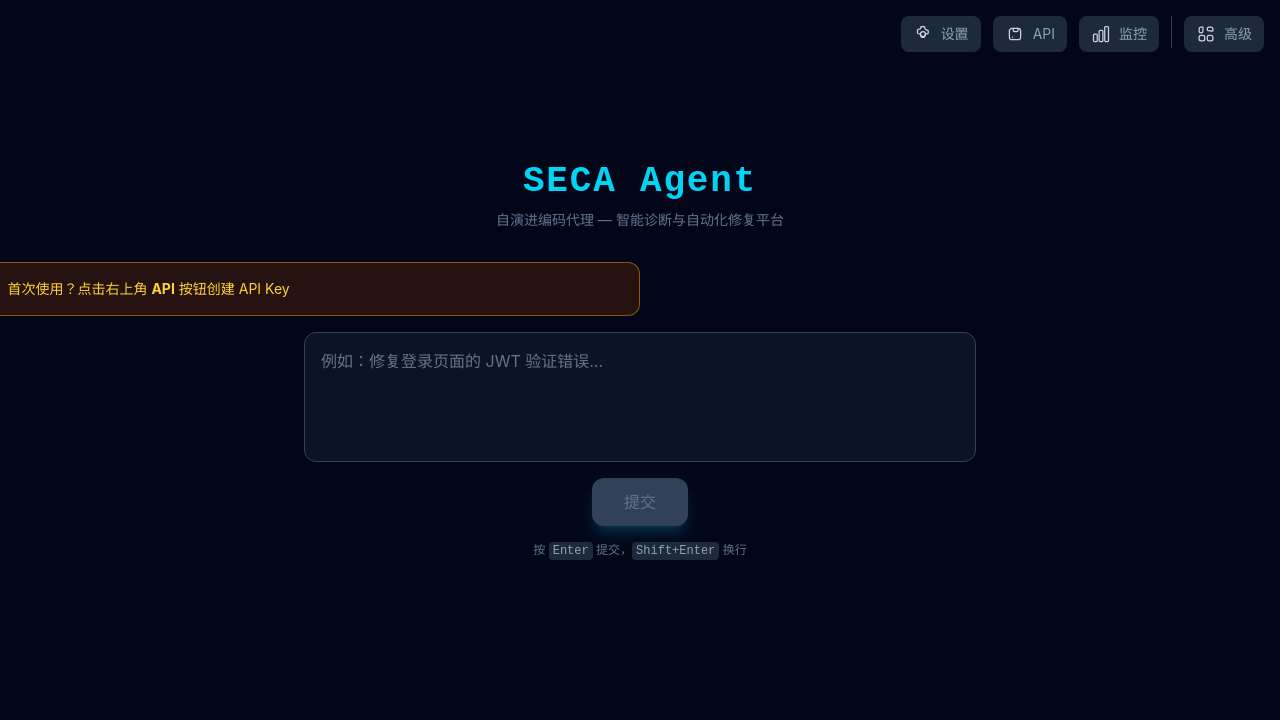
Scenario: App Root Render - Sprint 20 UX › 点击高级模式应显示 Dashboard 和连接状态
# 点击高级模式按钮
Click the button "高级".
click(1224, 34)  # box [1184,16,1264,52]
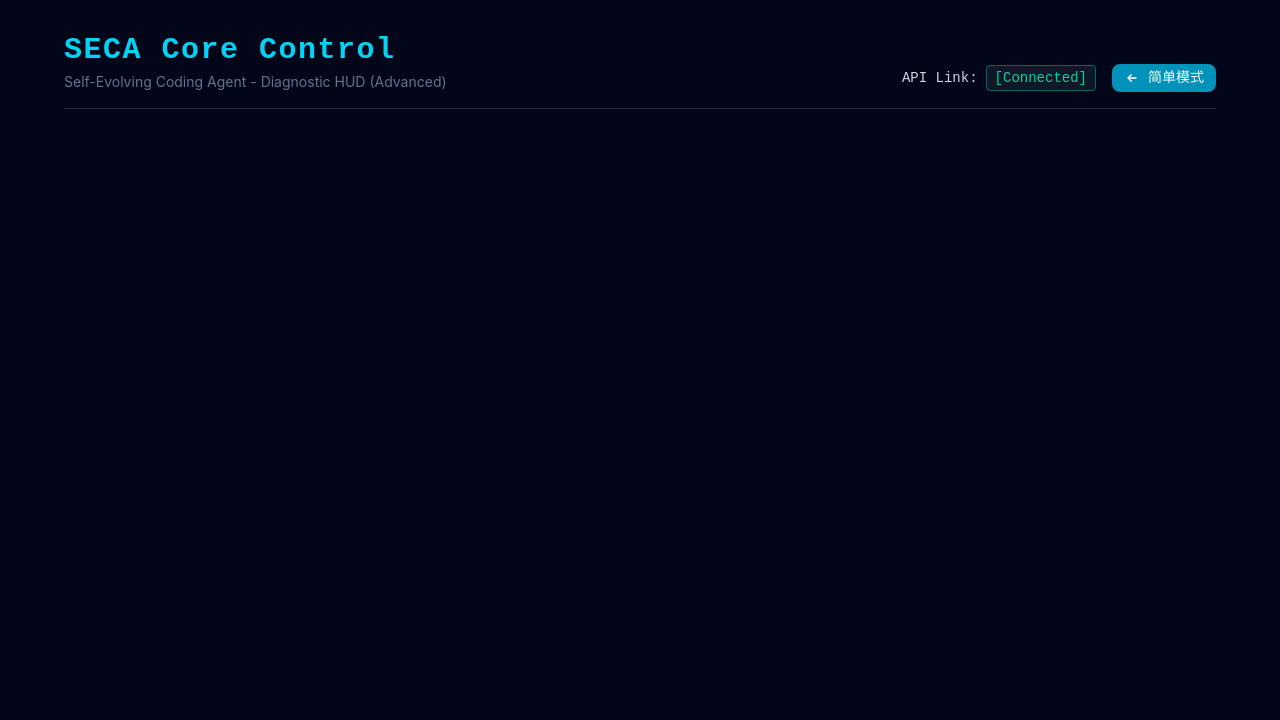
Expected: the heading "SECA Core Control" is shown, [64,32,447,68]
Expected: the text "[Connected]" is shown, [986,65,1096,91]
